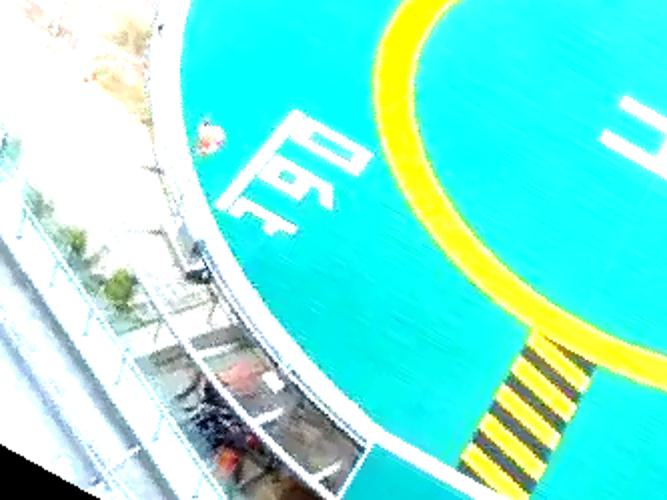Apron: (365, 1, 656, 388)
